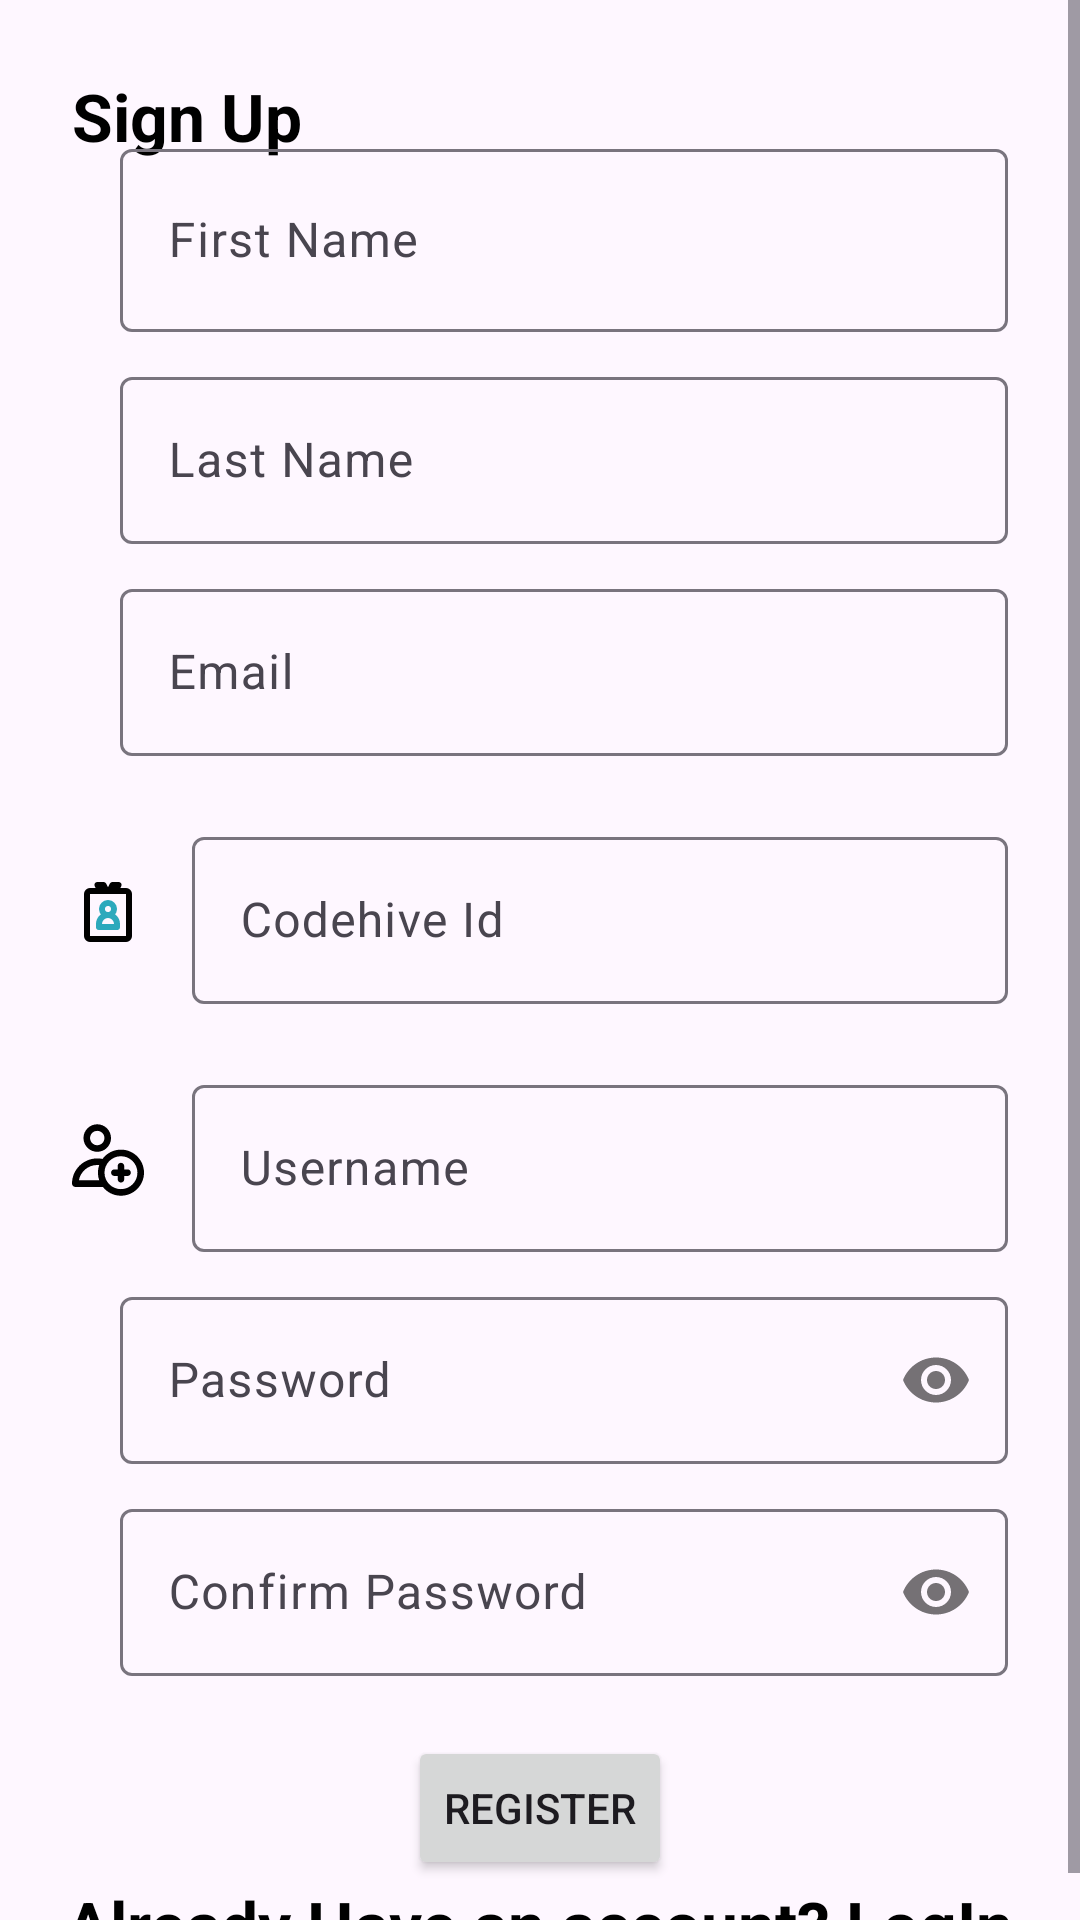

Icon bounding boxes for this 1080x1920 phone screenshot, format detection(x1, y1, x2, y2):
add user: detection(72, 1124, 144, 1196)
id card: detection(84, 882, 132, 942)
